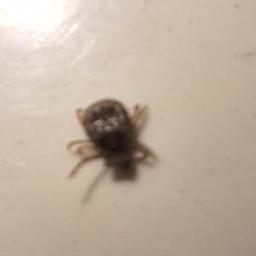Rhipicephalus sanguineus: (65, 97, 159, 181)
